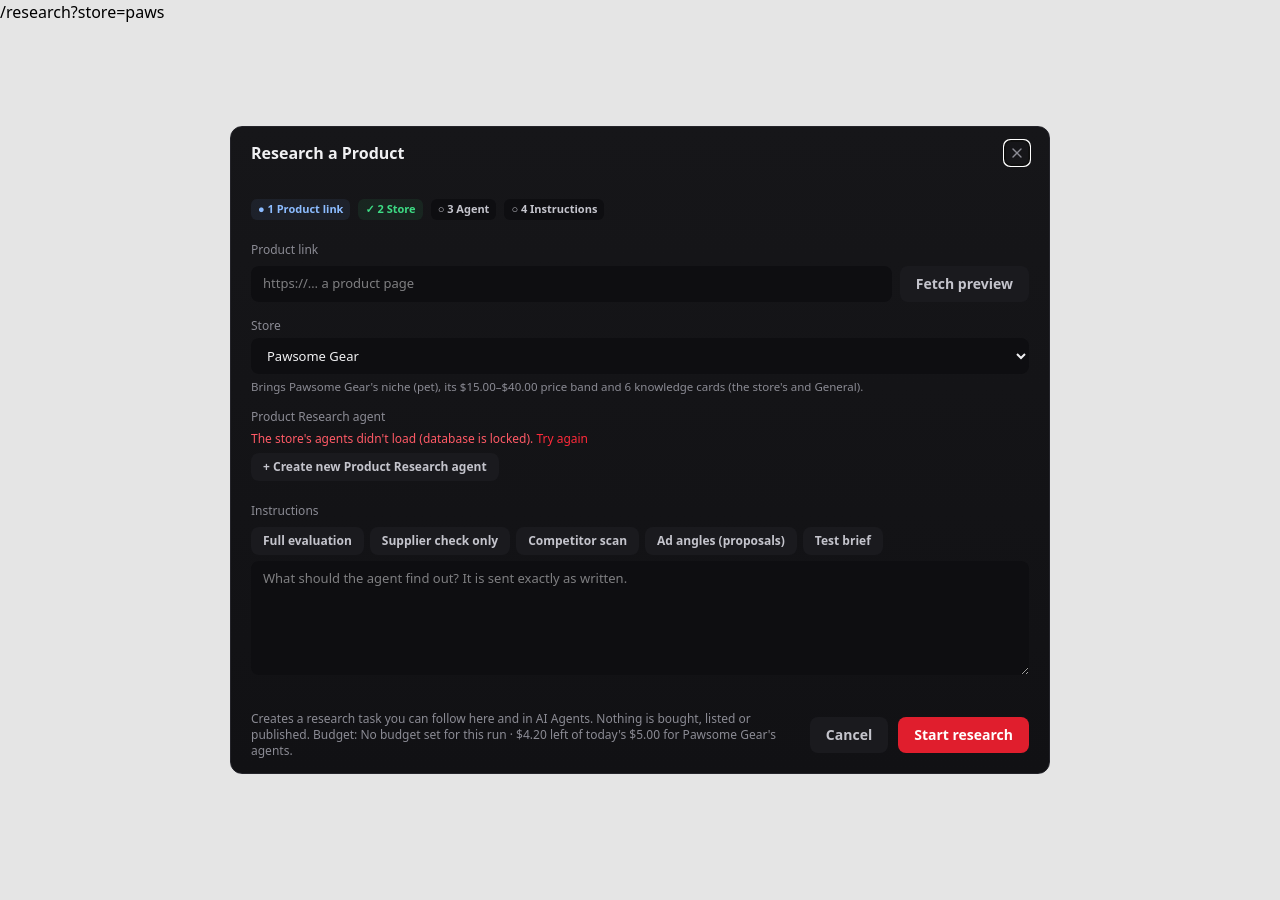
Test case: the store's agents that fail to load say so and retry, instead of loading forever
Check: the message reads "The store's agents didn't load (database is locked). Try again", box x1=251 y1=430 x2=588 y2=447
Click the button "Try again" at {"x": 562, "y": 439}, box x1=536 y1=431 x2=588 y2=447
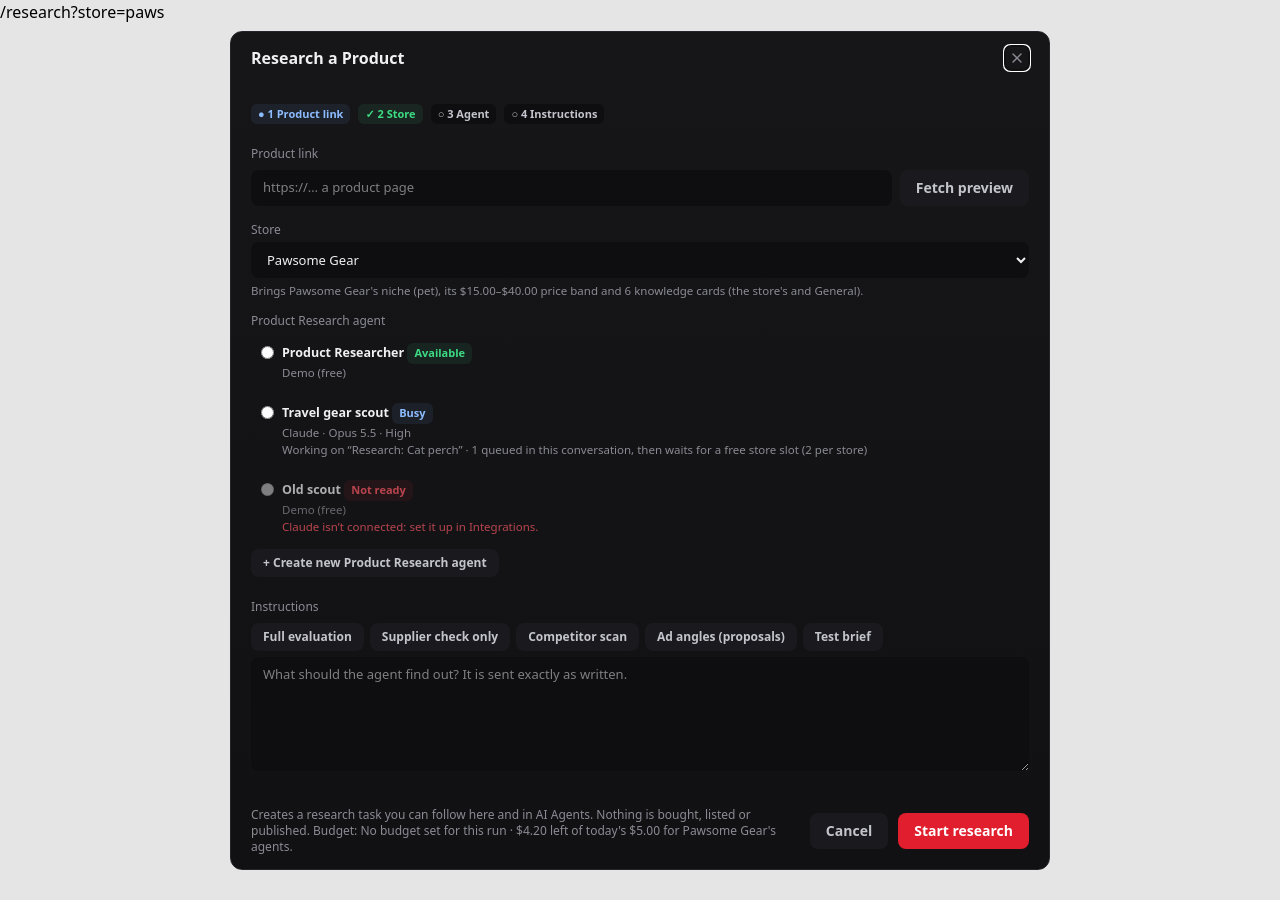
Check: the radio button labelled "Product Researcher Available Demo (free)" is shown, box x1=261 y1=346 x2=274 y2=359
Check: the message "The store's agents didn't load (database is locked). Try again" is gone
